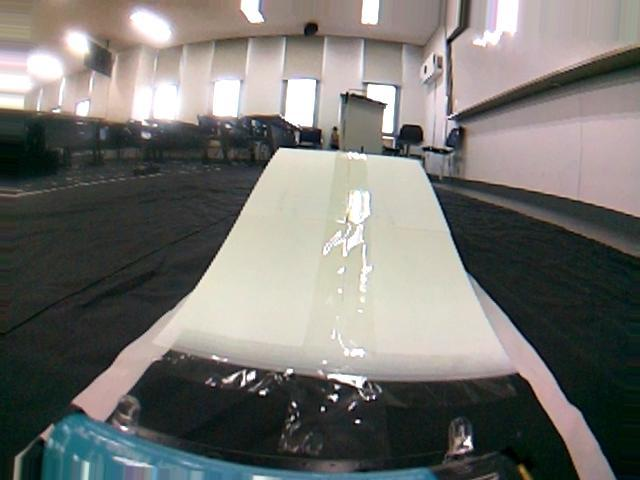hill_up: (65, 142, 612, 480)
